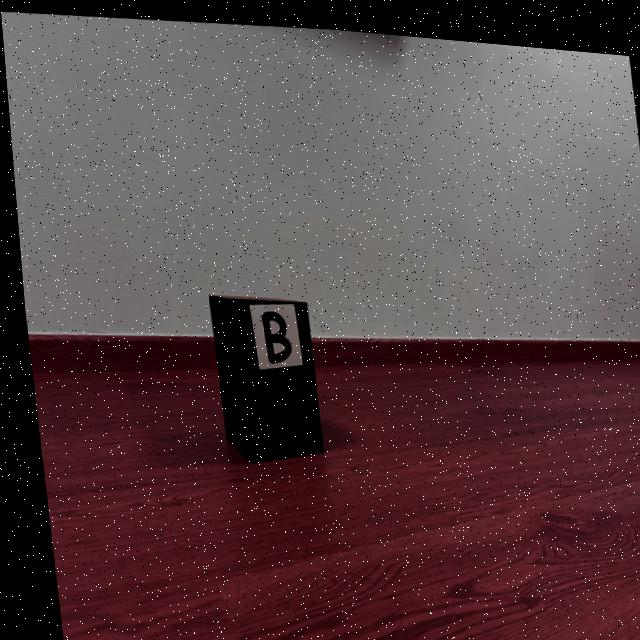B: (256, 306, 286, 360)
